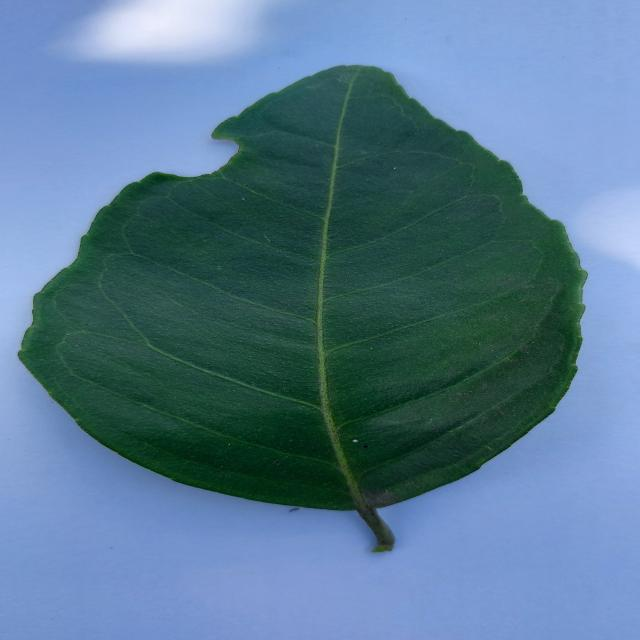greening: (21, 65, 583, 551)
